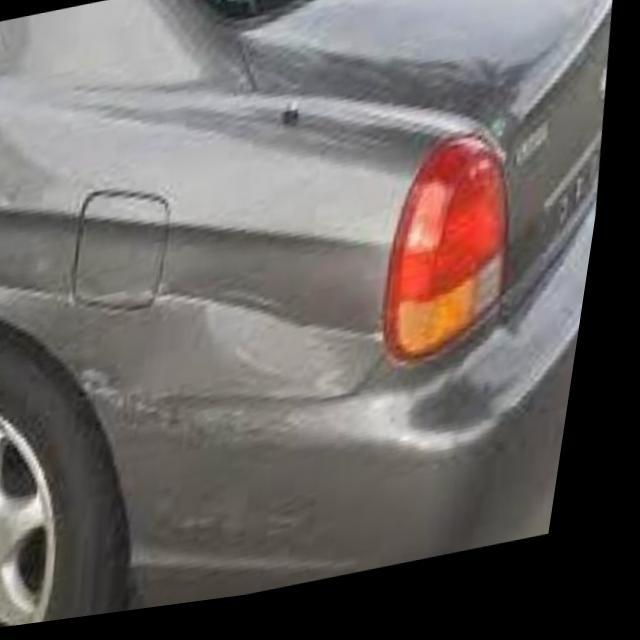dent: (0, 275, 400, 397)
rub: (88, 353, 312, 452), (178, 488, 342, 561)
